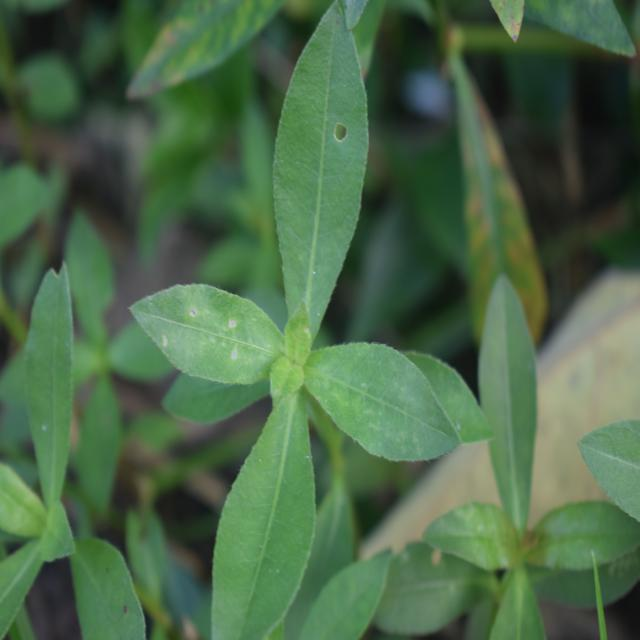Alligatorweed: (141, 28, 438, 612)
